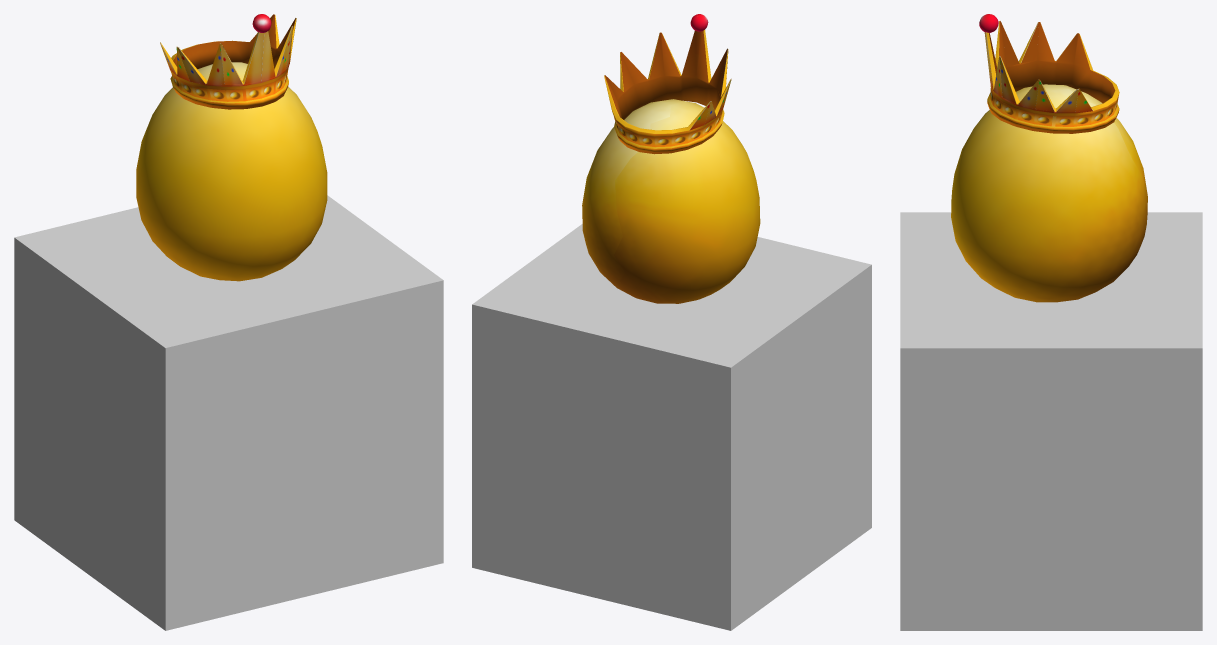
Rendered from rey huevo.glb.
3 renders of one model, left to right at view 1: azimuth 30°, elevation 25°; view 2: azimuth 150°, elevation 25°; view 3: azimuth 270°, elevation 25°, orthographic. The views are drawn at different scales.
Parts seen in each view (by area): view 1: reyhuevo; view 2: reyhuevo; view 3: reyhuevo.
Boxes of the visible parts, x1,y1,x2,y2 form: reyhuevo: (14,14,443,630); reyhuevo: (472,14,871,630); reyhuevo: (900,14,1202,630).
Size of the model in its own units: 5.29 by 9.98 by 4.98.
Materials: 3 (1 with a texture image).
